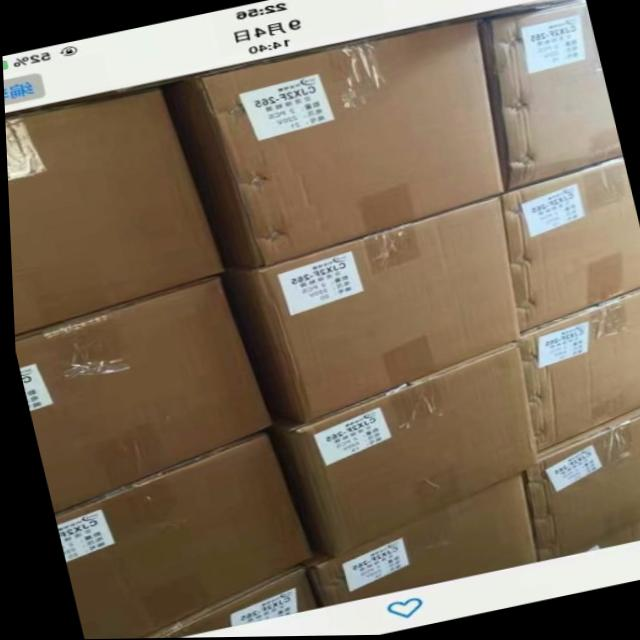box: (162, 21, 502, 269), (224, 193, 518, 424), (12, 273, 272, 514), (265, 344, 535, 555), (4, 87, 224, 336), (50, 432, 308, 639), (293, 470, 534, 608), (480, 0, 620, 193), (500, 157, 640, 334), (514, 290, 640, 457), (516, 407, 640, 563), (133, 566, 313, 639), (553, 517, 640, 559)
